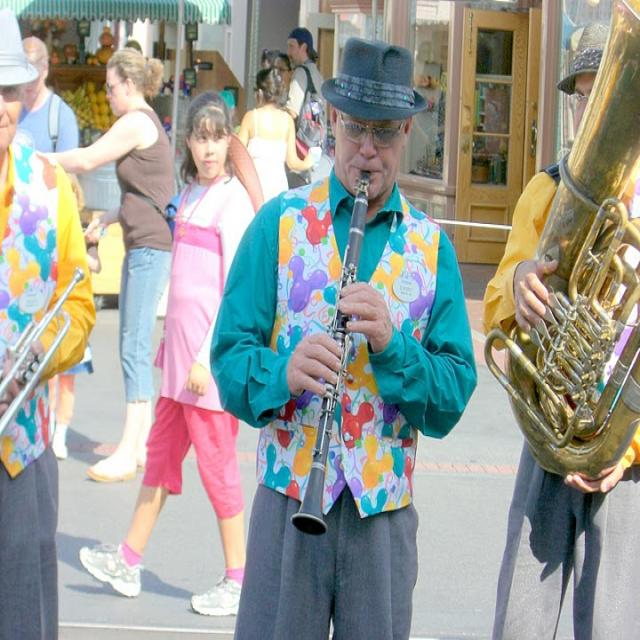clarinet: (289, 168, 373, 539)
